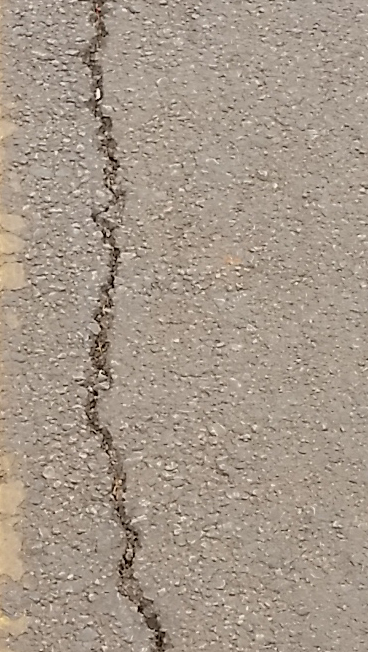A: (64, 2, 198, 652)
